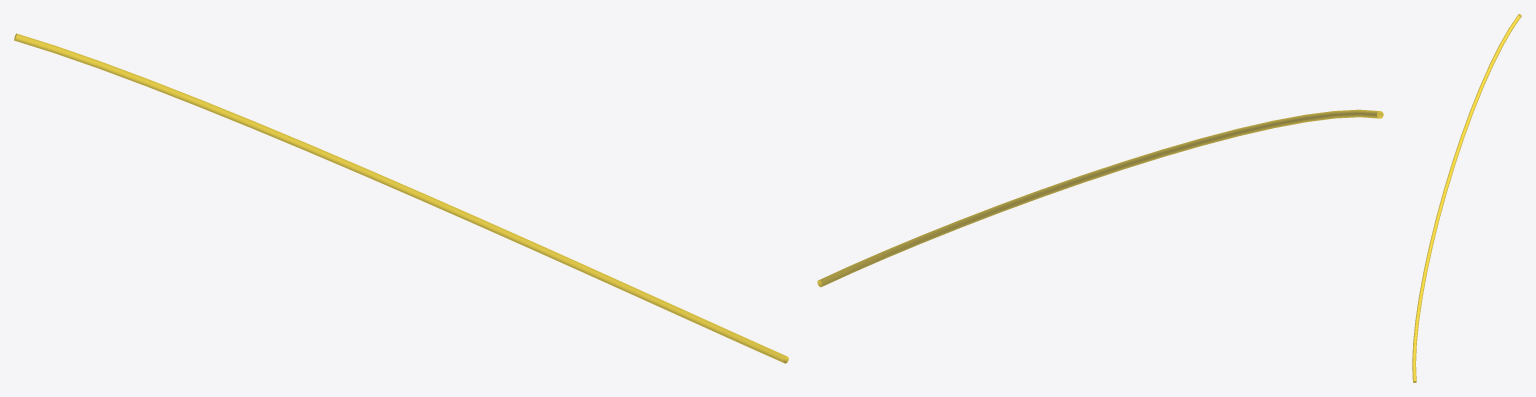
Rendered from Event_27938768_track_8.fbx.
3 renders of one model, left to right at view 1: azimuth 30°, elevation 25°; view 2: azimuth 150°, elevation 25°; view 3: azimuth 270°, elevation 25°, orthographic. The views are drawn at different scales.
Parts seen in each view (by area): view 1: Model; view 2: Model; view 3: Model.
Part boxes in pixels (bbox=[...]): Model: bbox=[14, 33, 788, 363]; Model: bbox=[817, 109, 1383, 287]; Model: bbox=[1412, 14, 1521, 382].
Size of the model in its own units: 4.06 by 2.4 by 1.15.
